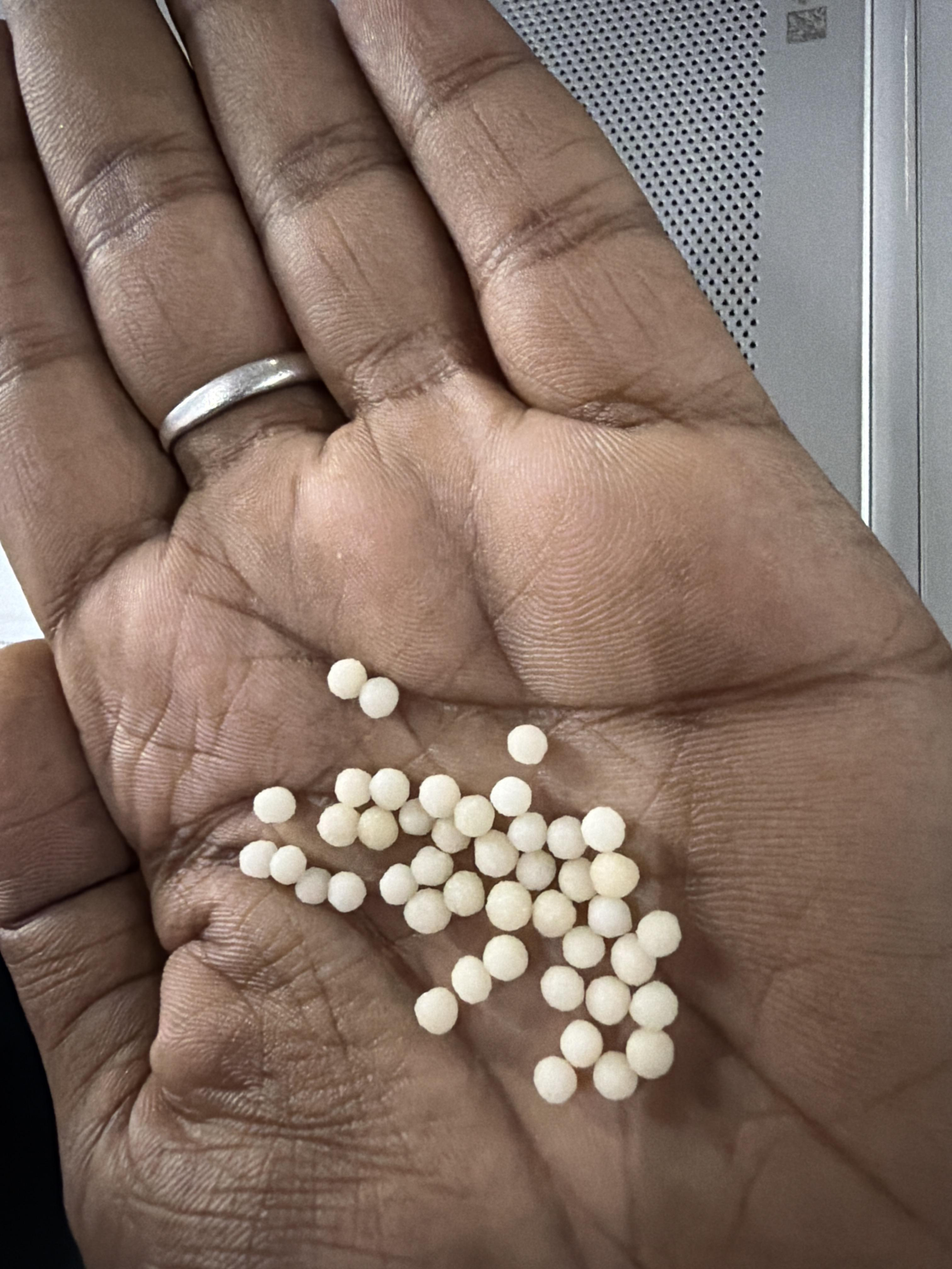pill: (626, 1028, 674, 1079), (485, 881, 533, 931), (610, 933, 655, 986), (630, 981, 678, 1030), (590, 852, 640, 899), (592, 1051, 638, 1100), (585, 976, 631, 1025), (403, 888, 450, 934), (581, 806, 626, 853), (483, 934, 528, 981), (637, 910, 681, 958), (533, 1056, 577, 1104), (560, 1019, 603, 1068), (540, 966, 585, 1012), (474, 830, 518, 877), (415, 986, 458, 1034), (533, 890, 576, 937), (451, 955, 492, 1004), (418, 774, 461, 820), (317, 802, 360, 847), (443, 871, 485, 917), (588, 895, 632, 938), (562, 925, 605, 969), (453, 794, 495, 838), (357, 805, 398, 850), (410, 846, 453, 887), (369, 768, 410, 811), (358, 677, 399, 719), (507, 724, 548, 765), (379, 863, 419, 905), (547, 816, 585, 860), (516, 850, 556, 891), (507, 811, 547, 852), (490, 776, 531, 816), (327, 658, 367, 699), (327, 871, 366, 913), (253, 786, 296, 824), (559, 858, 595, 902), (239, 839, 278, 879), (334, 768, 371, 808), (270, 845, 307, 885), (431, 817, 470, 854), (398, 798, 434, 836), (295, 867, 331, 905)
